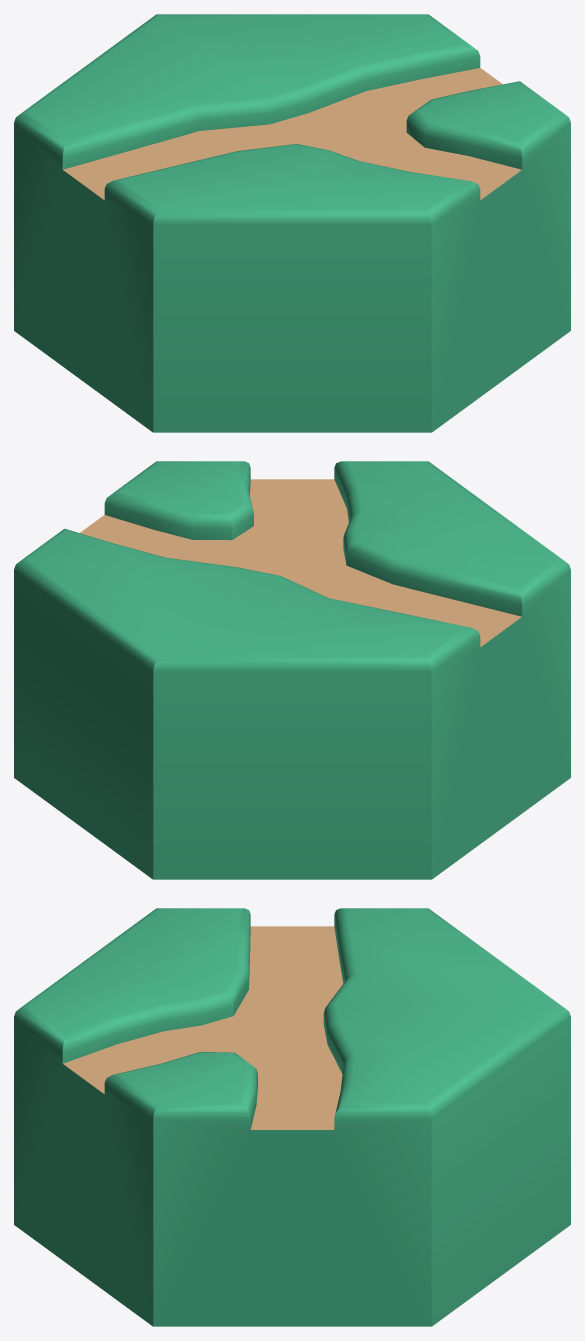
Rendered from hex_forest_roadE.glb.
3 views of the same model, one above another, from view 1: azimuth 30°, elevation 25°; view 2: azimuth 150°, elevation 25°; view 3: azimuth 270°, elevation 25° (orthographic).
Parts seen in each view (by area): view 1: hex_forest_roadE; view 2: hex_forest_roadE; view 3: hex_forest_roadE.
Part boxes in pixels (x1=…): hex_forest_roadE: x1=14, y1=14, x2=570, y2=432; hex_forest_roadE: x1=14, y1=461, x2=570, y2=879; hex_forest_roadE: x1=14, y1=908, x2=570, y2=1326.
Size of the model in its own units: 2 by 1 by 2.31.
